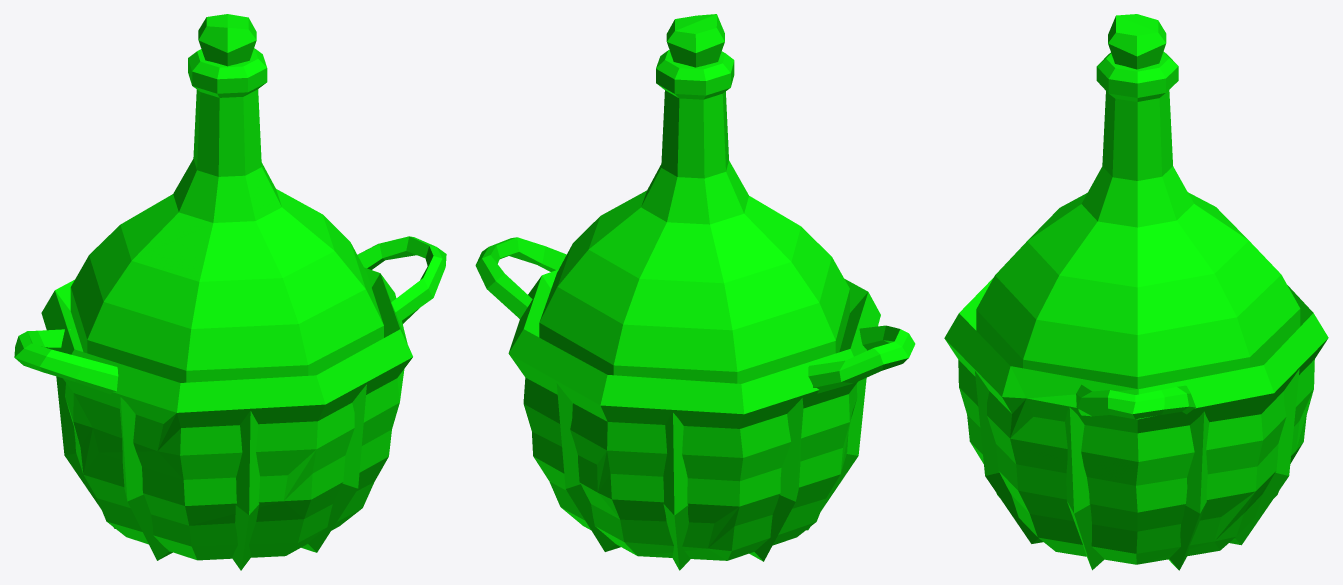
Rendered from SM_Bottle_Fantasy_Wicker_B.fbx.
The picture shows the model from 3 angles, left to right: view 1: azimuth 30°, elevation 25°; view 2: azimuth 150°, elevation 25°; view 3: azimuth 270°, elevation 25°; orthographic projection.
Parts seen in each view (by area): view 1: bottle-fantasy-wicker-b; view 2: bottle-fantasy-wicker-b; view 3: bottle-fantasy-wicker-b.
Part boxes in pixels (x1,y1,x2,y2): bottle-fantasy-wicker-b: [14, 14, 446, 570]; bottle-fantasy-wicker-b: [475, 14, 915, 570]; bottle-fantasy-wicker-b: [944, 14, 1328, 570].
Size of the model in its own units: 0.5467 by 0.6158 by 0.423.
